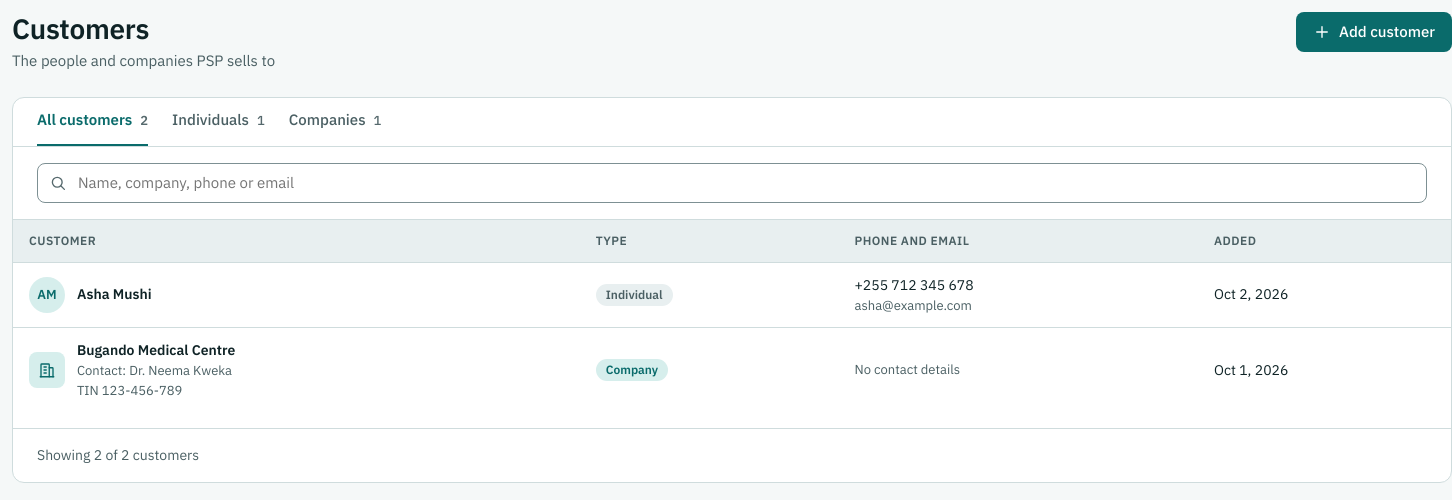
Test: CustomersList › says when nothing matches, and Clear search brings the list back
The width and height of the screenshot is (1452, 500).
Expected: the table is shown, x1=13 y1=220 x2=1451 y2=412
Type "nobody" into the search field named "Search by name, company, phone or email". click: x=732, y=182
box: x1=37 y1=162 x2=1427 y2=202
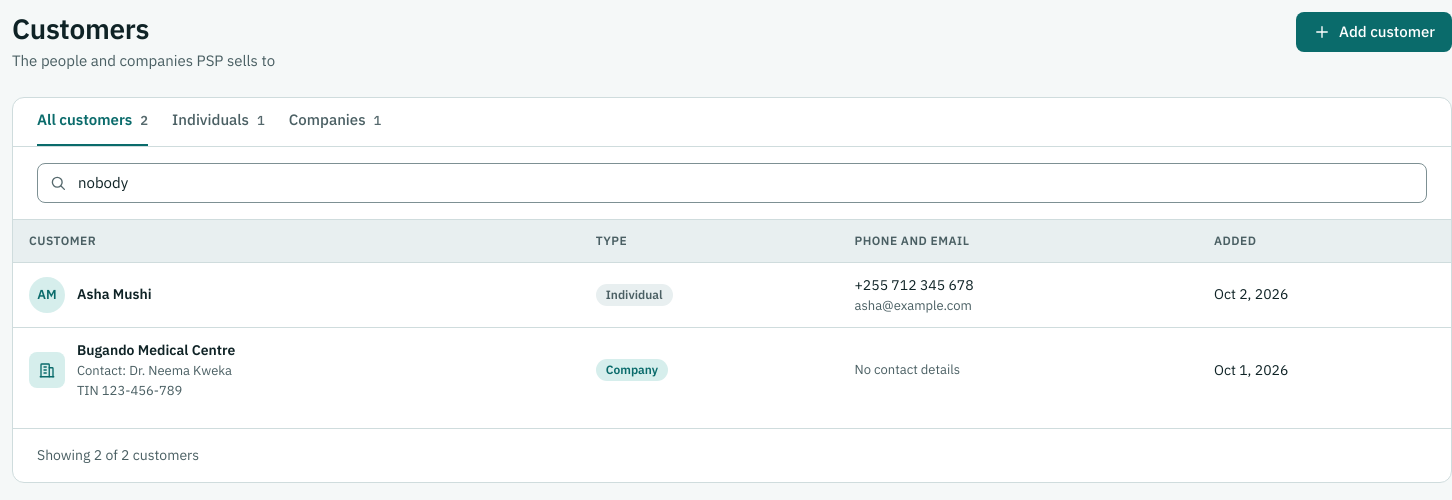
Submit the form from the search field named "Search by name, company, phone or email", box x1=37 y1=162 x2=1427 y2=202
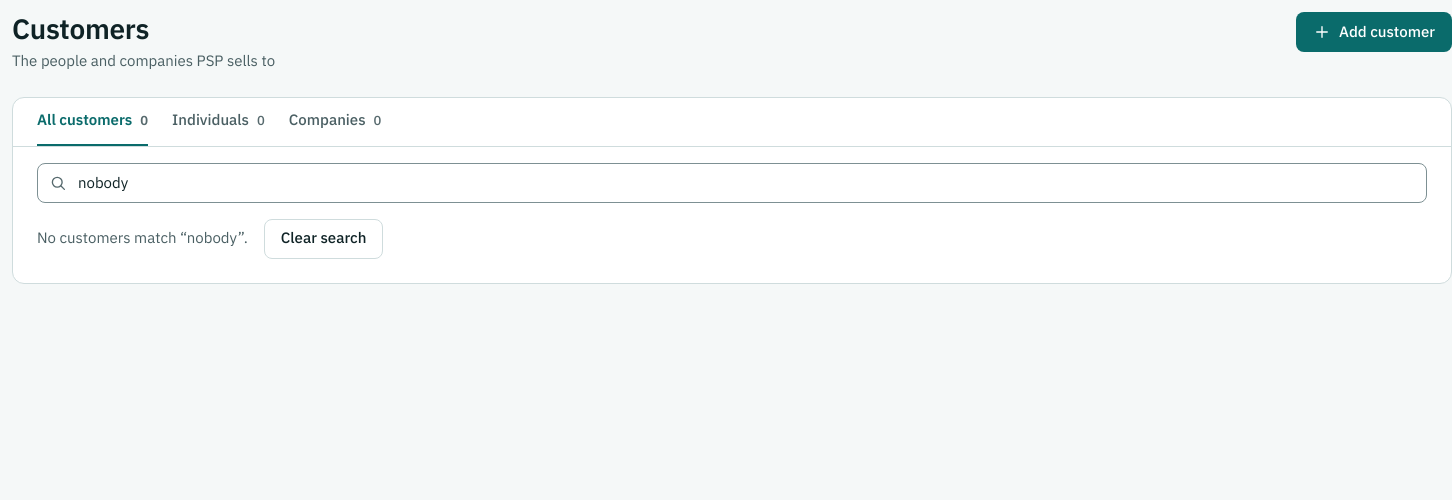
Now the text "No customers match “nobody”." is shown, box x1=37 y1=227 x2=248 y2=250
Click the button "Clear search". click: x=324, y=238
box: x1=264 y1=218 x2=383 y2=258
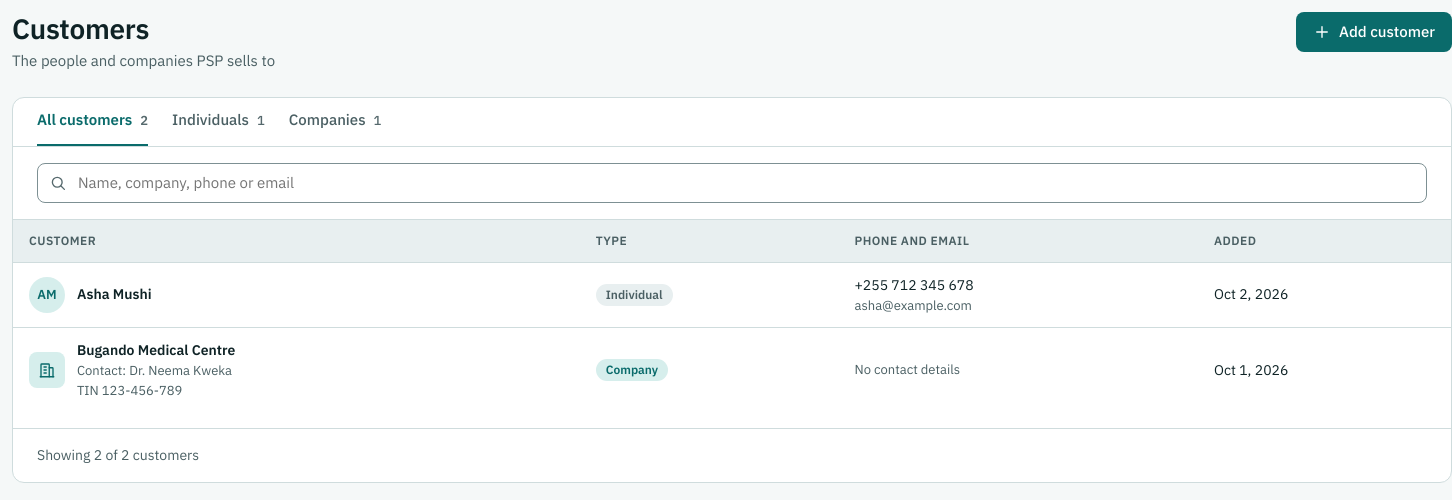
Now the table is shown, box x1=13 y1=220 x2=1451 y2=412
Now the search field named "Search by name, company, phone or email" is empty, box x1=37 y1=162 x2=1427 y2=202
